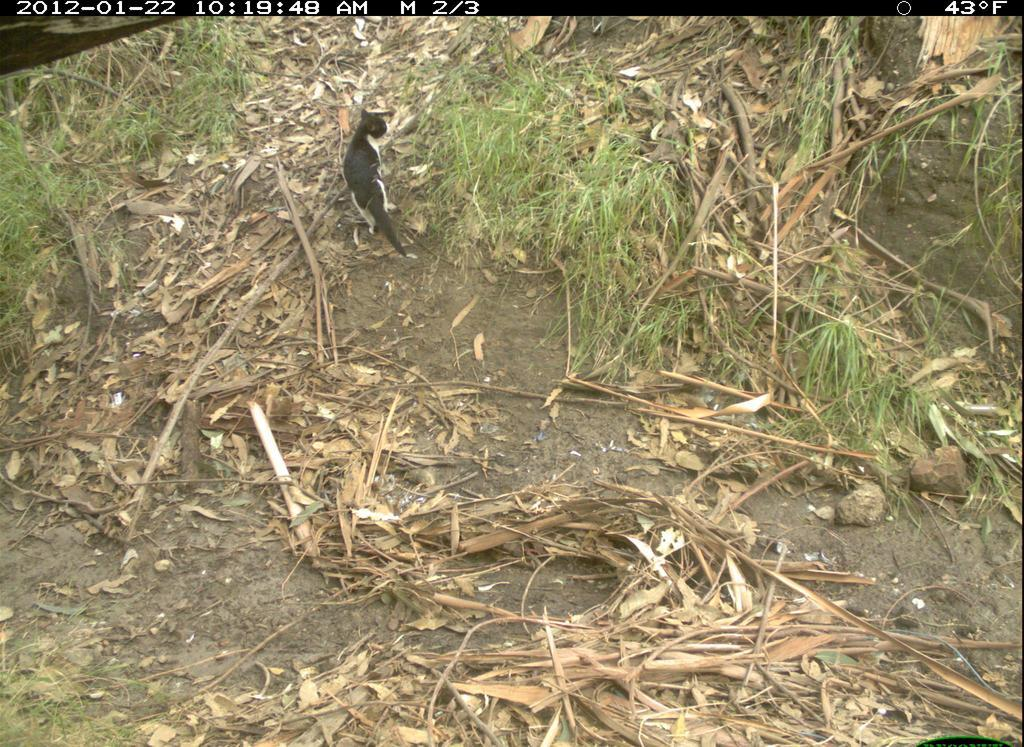cat: (344, 103, 414, 268)
